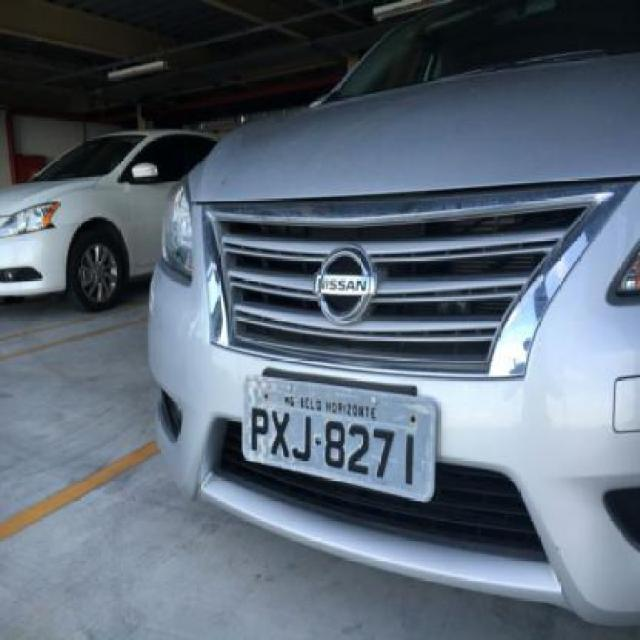old_plate: (235, 370, 444, 509)
